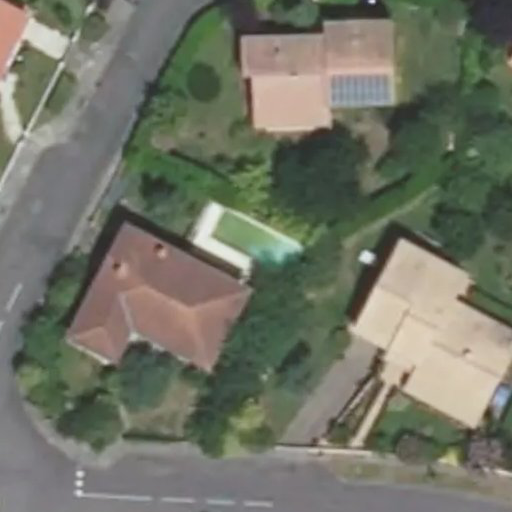pool: (207, 235, 304, 248)
